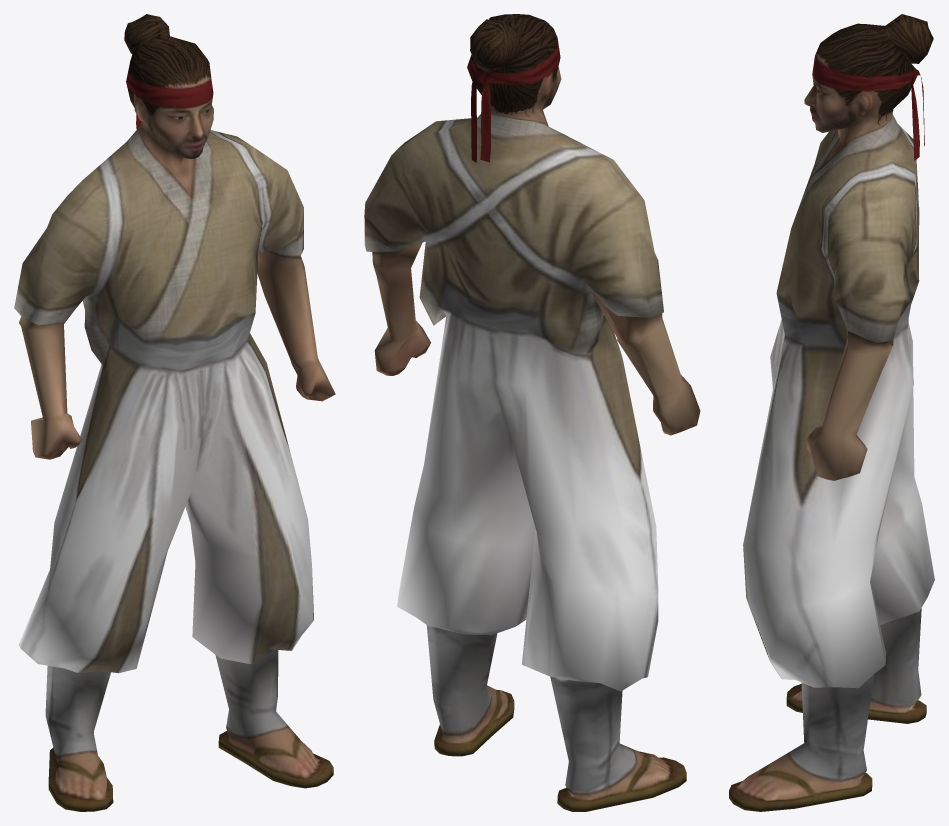
File: body-base.glb
3 views of the same model, side by side, from view 1: azimuth 30°, elevation 25°; view 2: azimuth 150°, elevation 25°; view 3: azimuth 270°, elevation 25° (orthographic). The views are drawn at different scales.
Size of the model in its own units: 0.8818 by 2.05 by 0.5162.
1 material, 1 textured.
